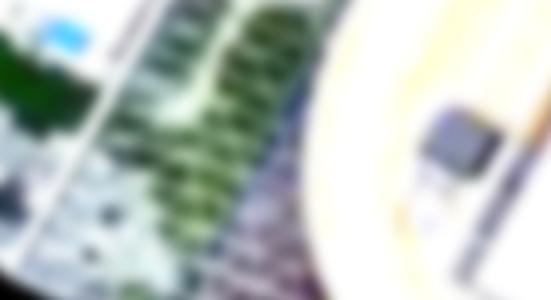Apron: (418, 22, 524, 269)
